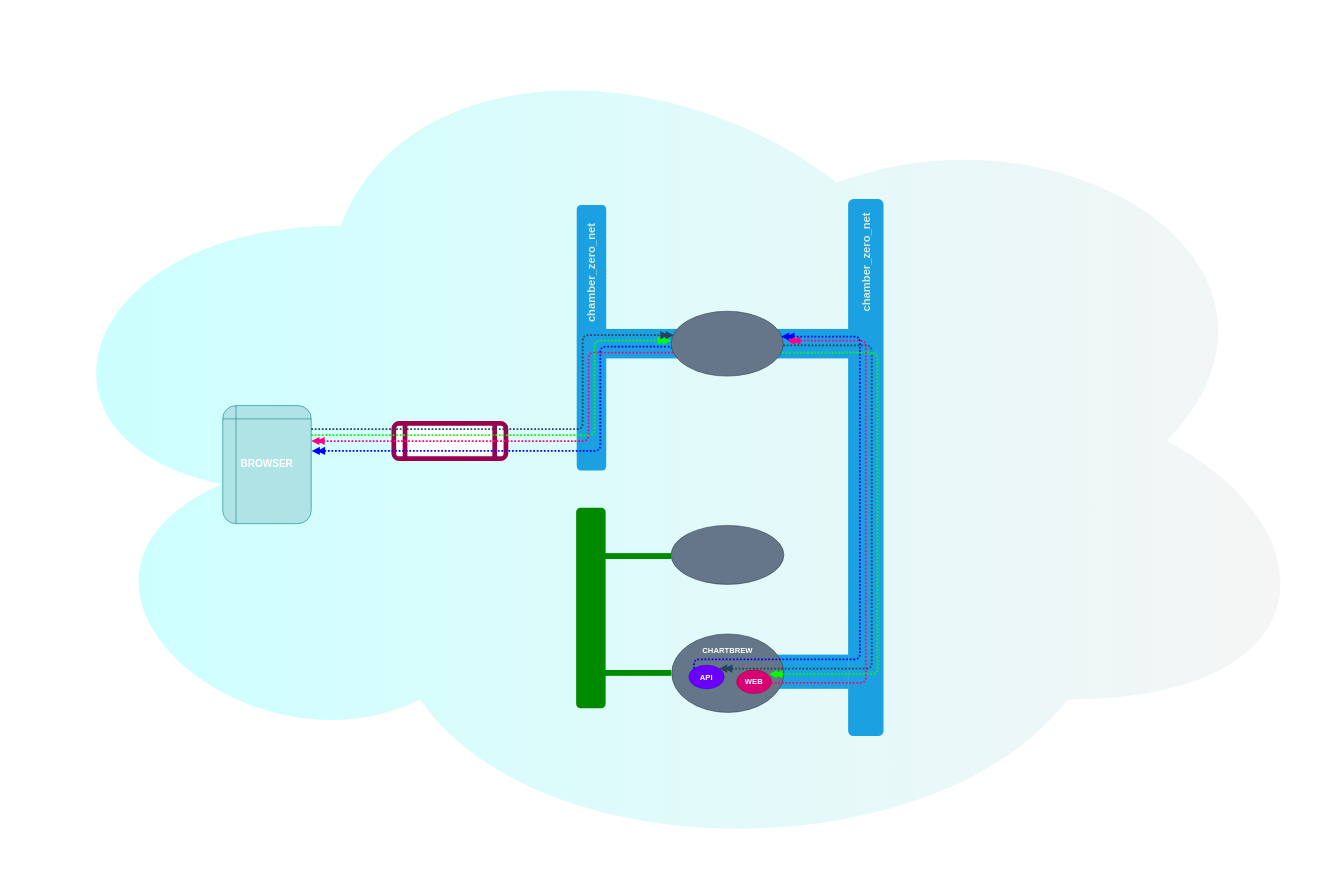
Some shapes in this 1342 by 881 pixel diagram are drawn without their labels. The centre of each missing label's shape, as x and y in pixels:
"chartbrew_net" goes at (590,607).
"NGINX" goes at (727,343).
"POSTGRES" goes at (727,554).
